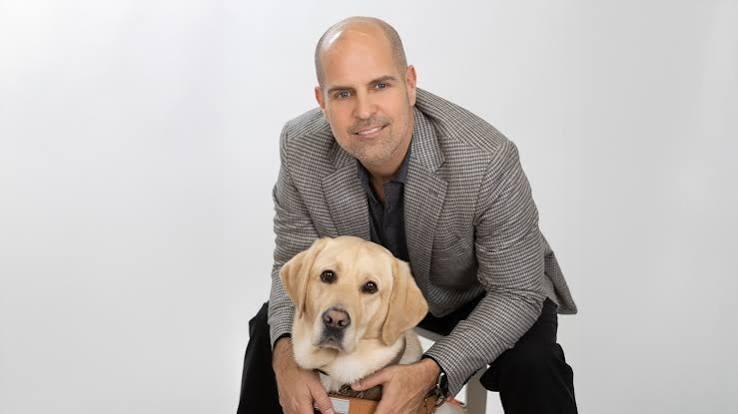adult_dog: (281, 233, 467, 414)
non-dog: (232, 15, 580, 414)
